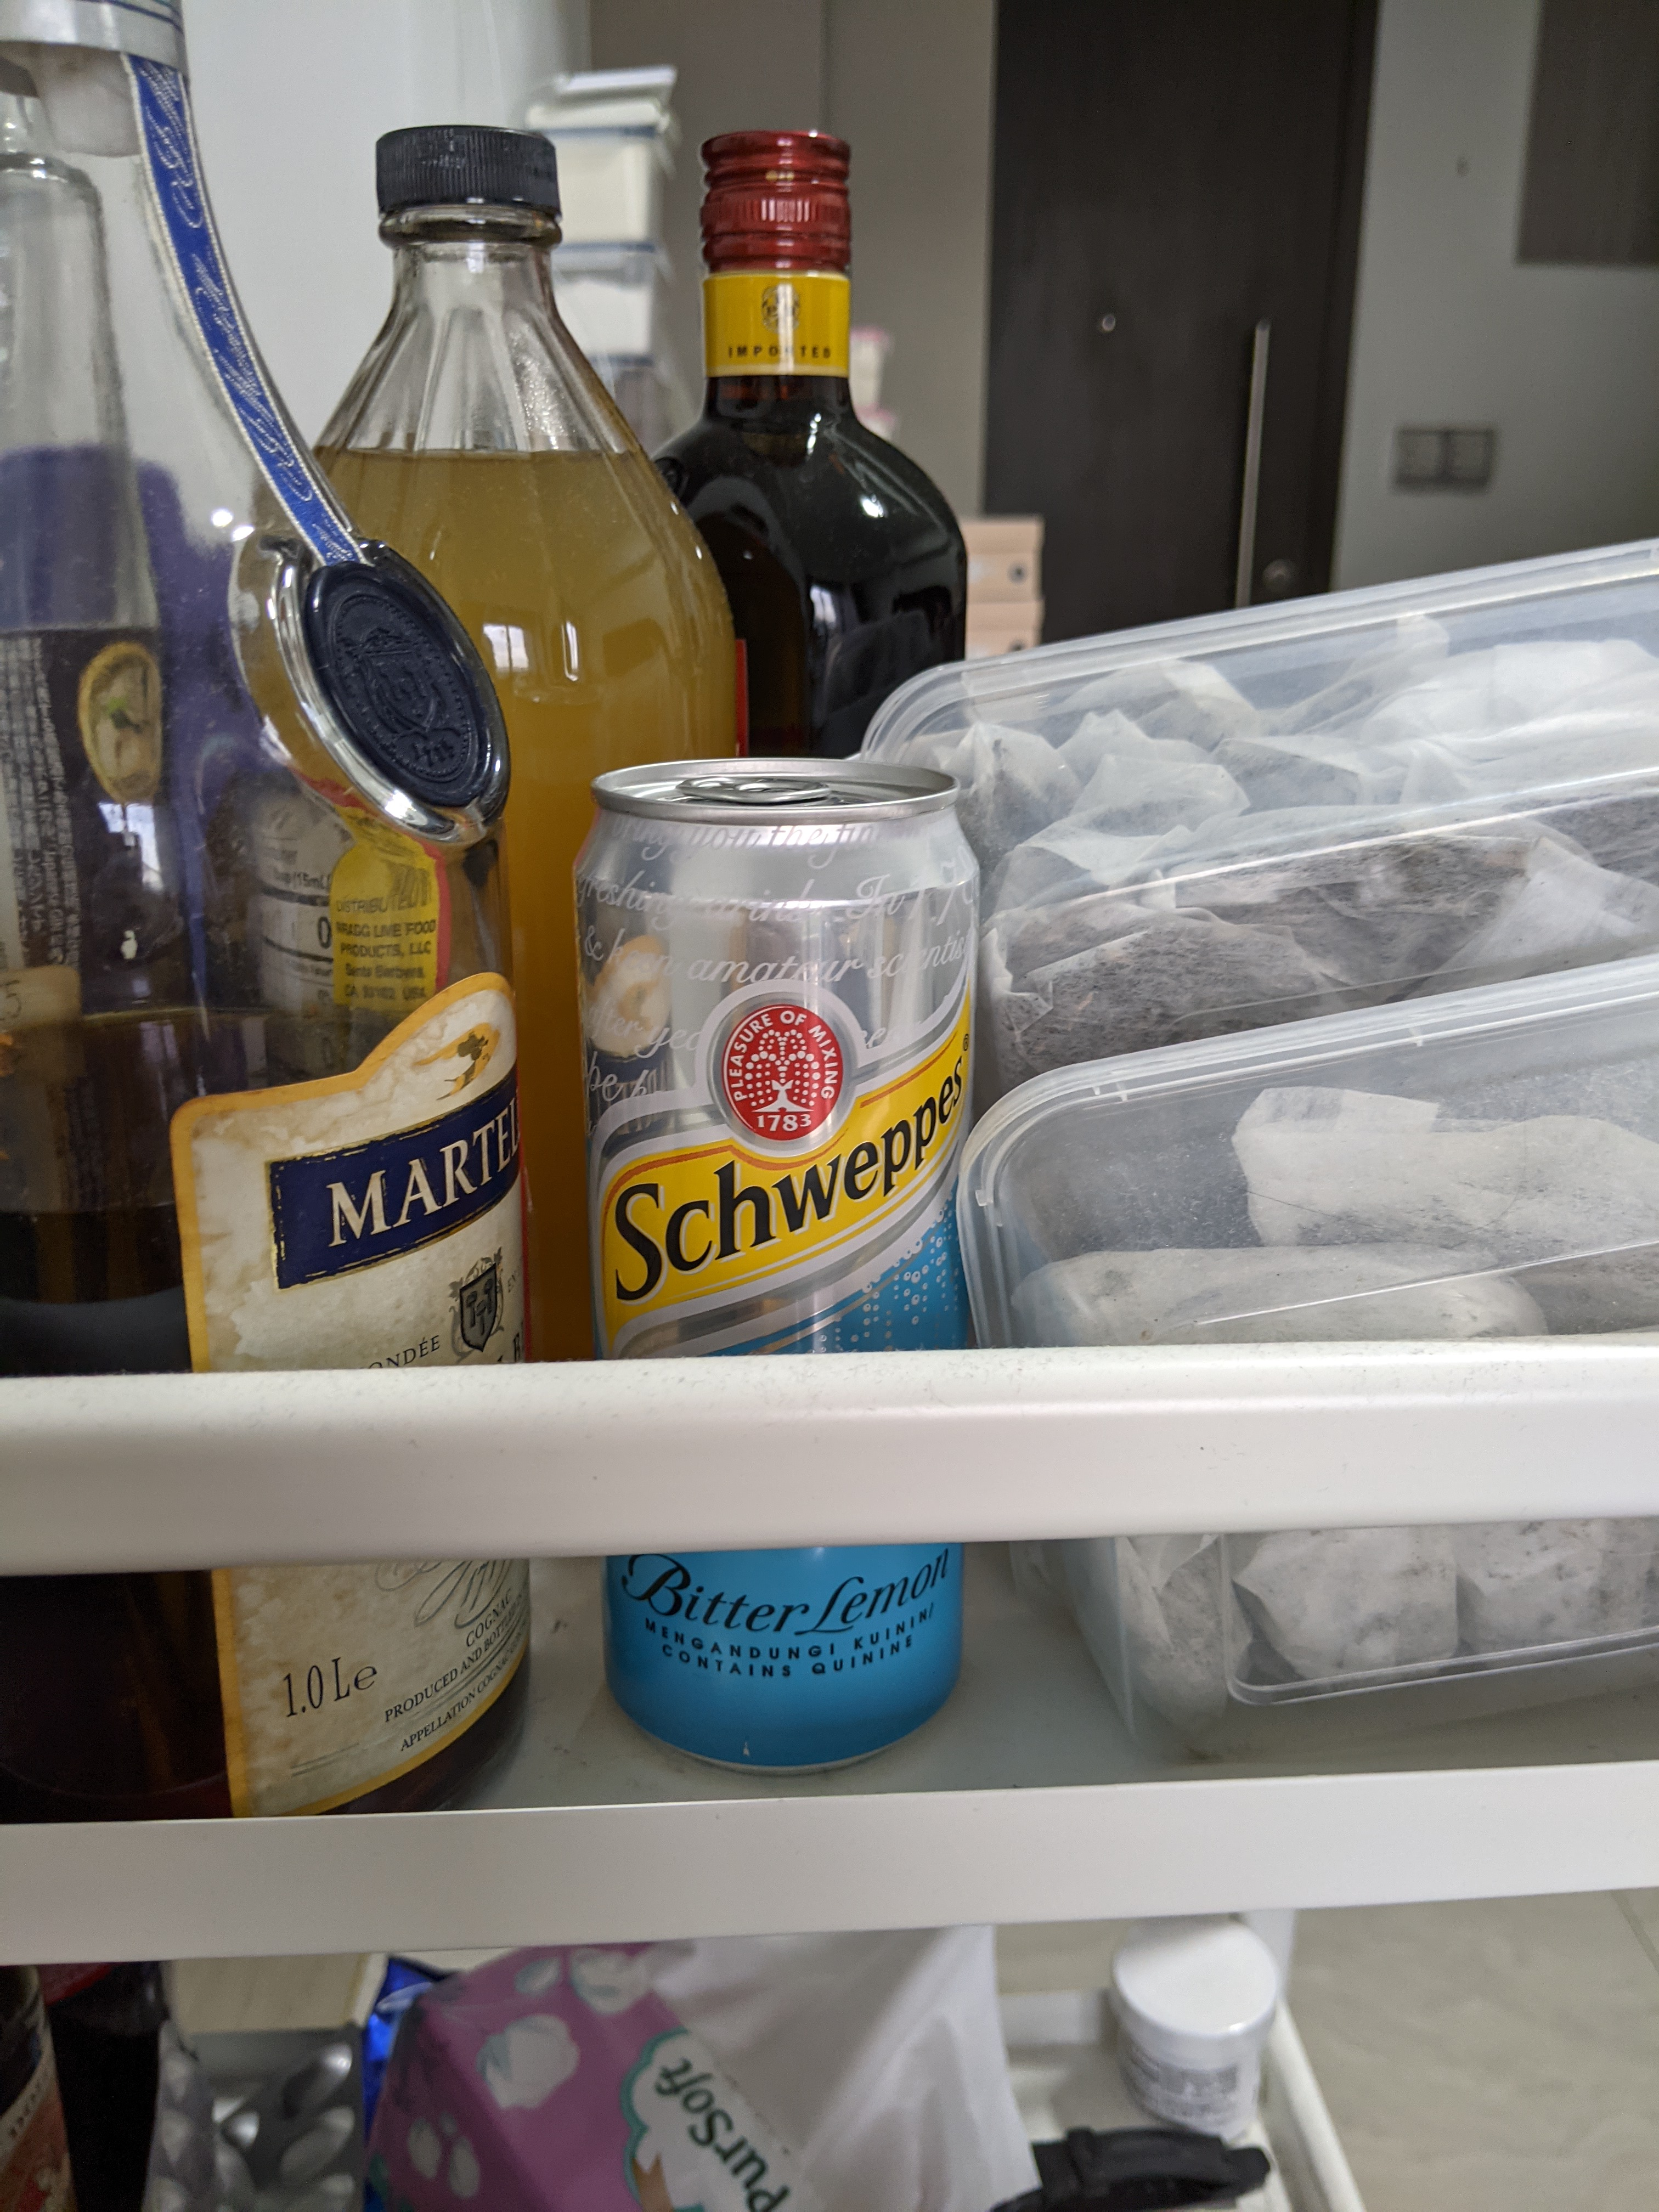schweppes drink can bitter lemon: (556, 728, 1002, 1796)
